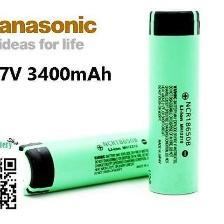battery: (1, 125, 193, 197), (142, 4, 202, 200)
